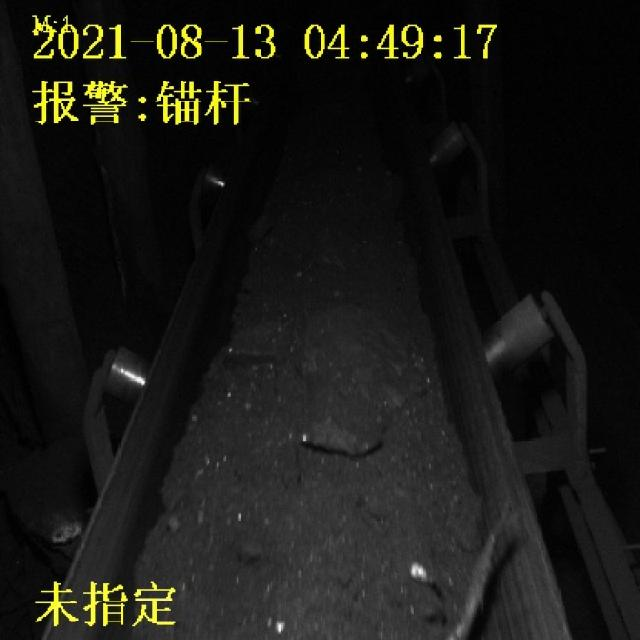bolt: (458, 502, 512, 638)
large_sized_coal: (300, 311, 426, 454), (229, 318, 294, 369)
